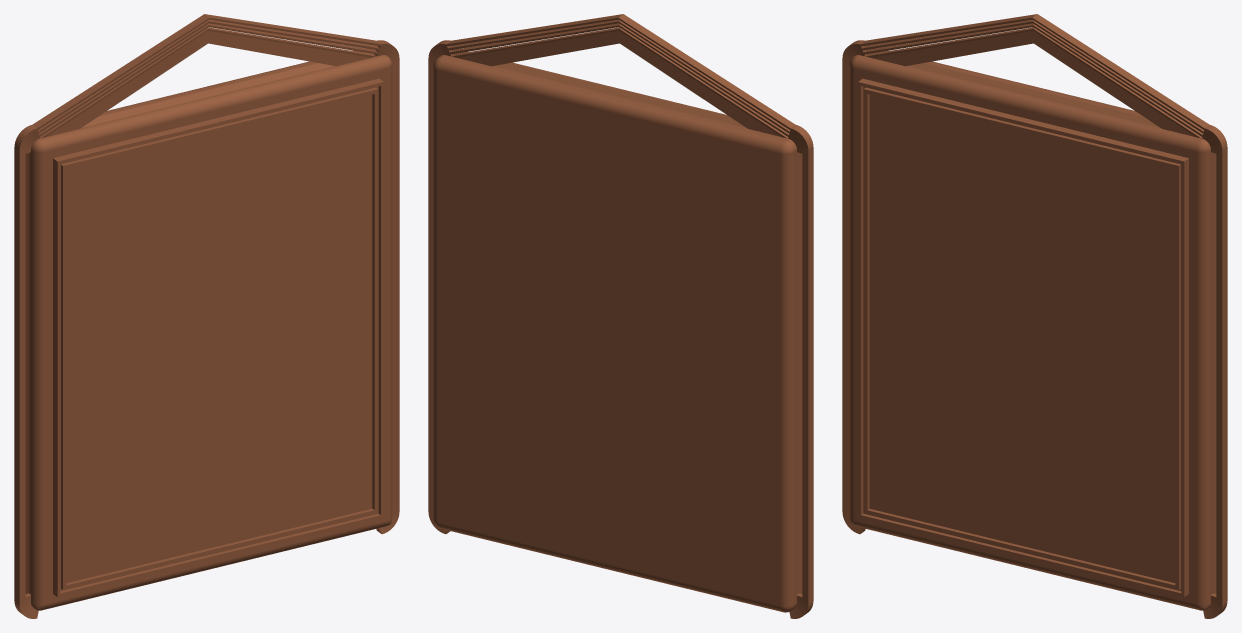
The model's file is BronzeFrame.fbx.
3 views of the same model, side by side, from view 1: azimuth 30°, elevation 25°; view 2: azimuth 150°, elevation 25°; view 3: azimuth 330°, elevation 25° (orthographic).
Parts seen in each view (by area): view 1: Bronze Mirror; view 2: Bronze Mirror; view 3: Bronze Mirror.
Boxes of the visible parts, box(x1,y1,x2,y2) form: Bronze Mirror: box(14, 14, 399, 618); Bronze Mirror: box(428, 14, 813, 618); Bronze Mirror: box(842, 14, 1227, 618).
Size of the model in its own units: 211 by 297 by 24.44.
